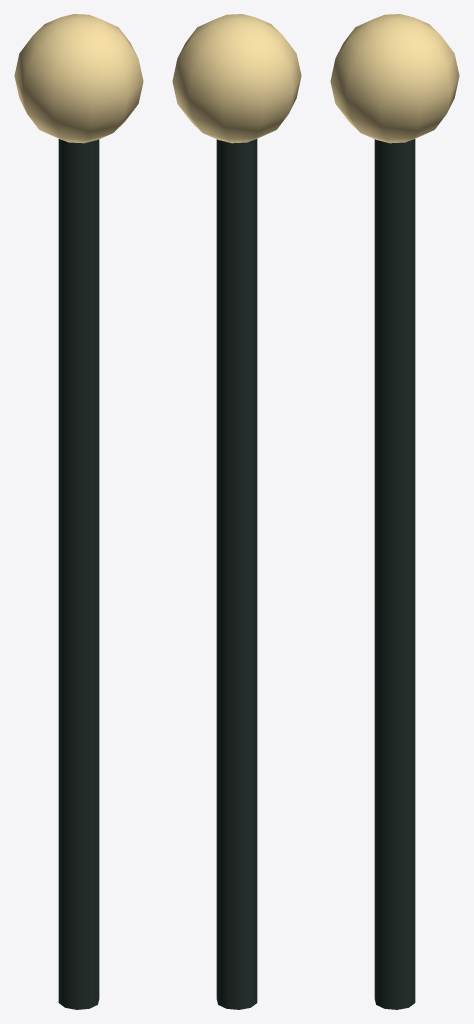
The model's file is lamp.glb.
3 views of the same model, side by side, from view 1: azimuth 30°, elevation 25°; view 2: azimuth 150°, elevation 25°; view 3: azimuth 330°, elevation 25° (orthographic).
Visible parts, largest first — view 1: lamp; view 2: lamp; view 3: lamp.
Boxes of the visible parts, x1,y1,x2,y2 form: lamp: (14, 14, 143, 1009); lamp: (172, 14, 301, 1009); lamp: (330, 14, 459, 1009).
Size of the model in its own units: 0.44 by 3.67 by 0.4185.
